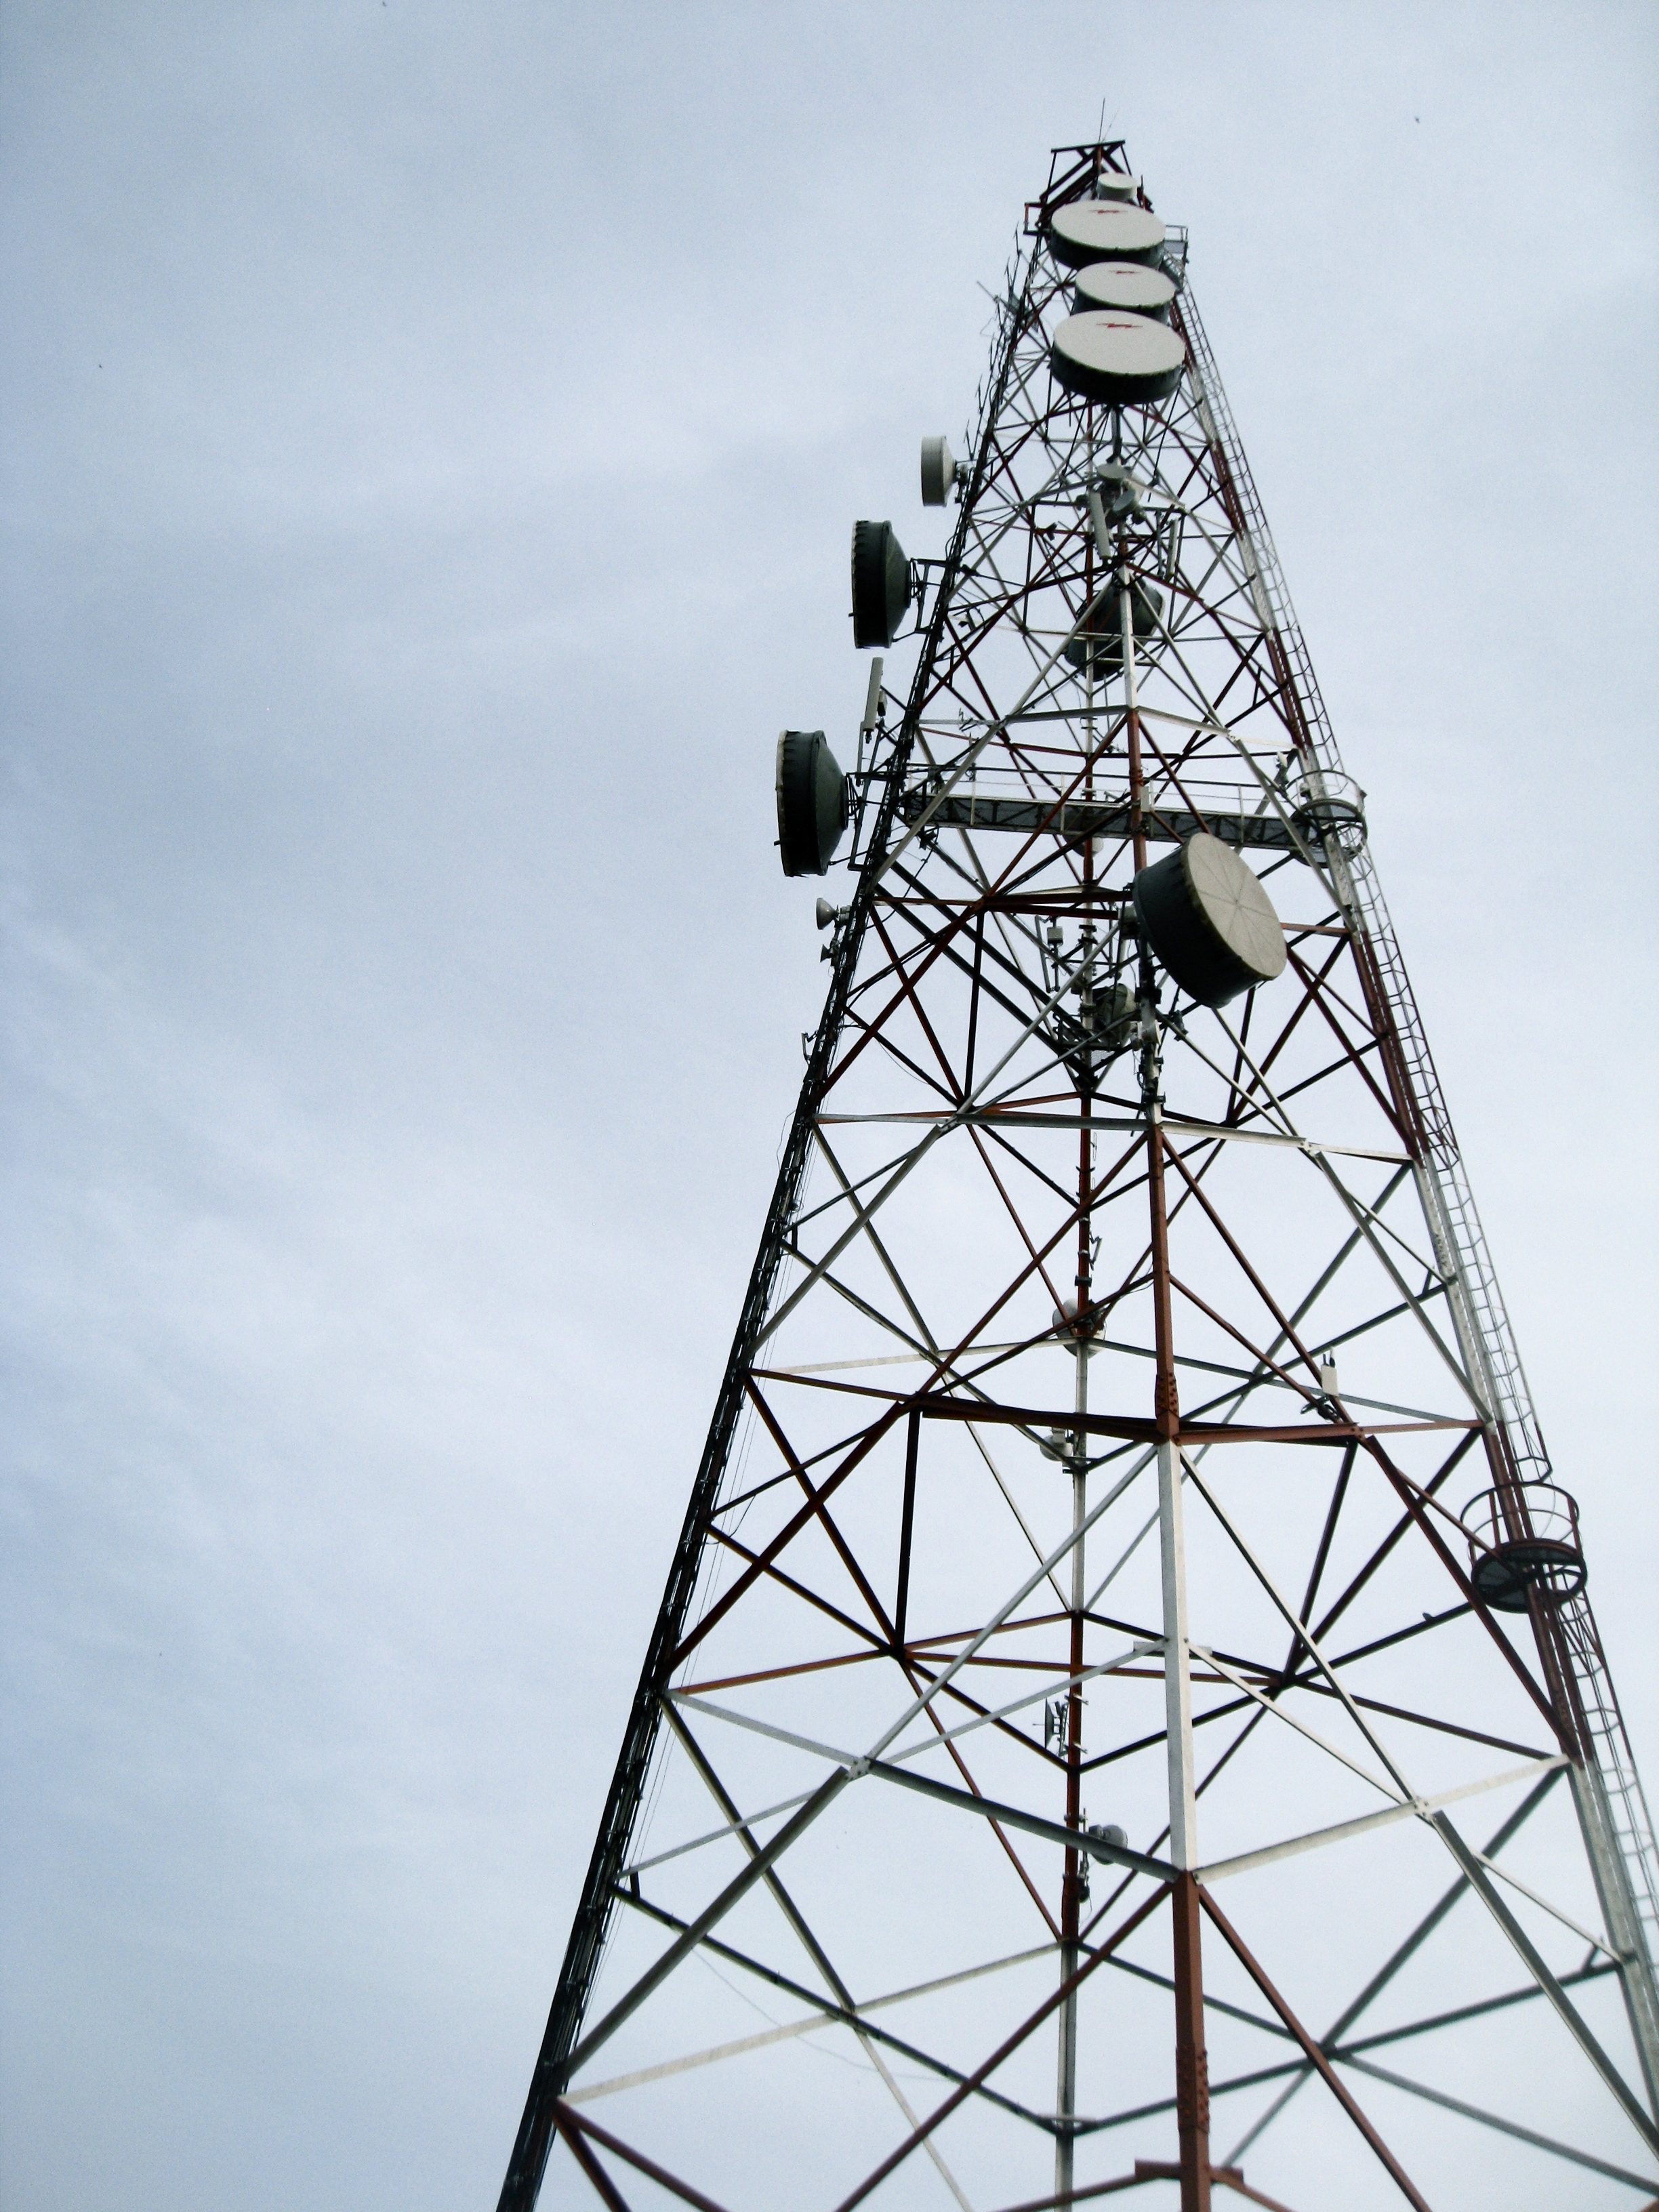ba: (1147, 848, 1310, 1047), (753, 725, 884, 923), (1025, 165, 1190, 287), (1028, 310, 1213, 416), (1049, 543, 1171, 693), (828, 496, 922, 665)
